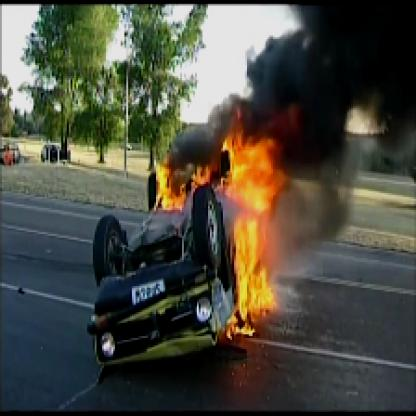Fire: (141, 83, 336, 340)
